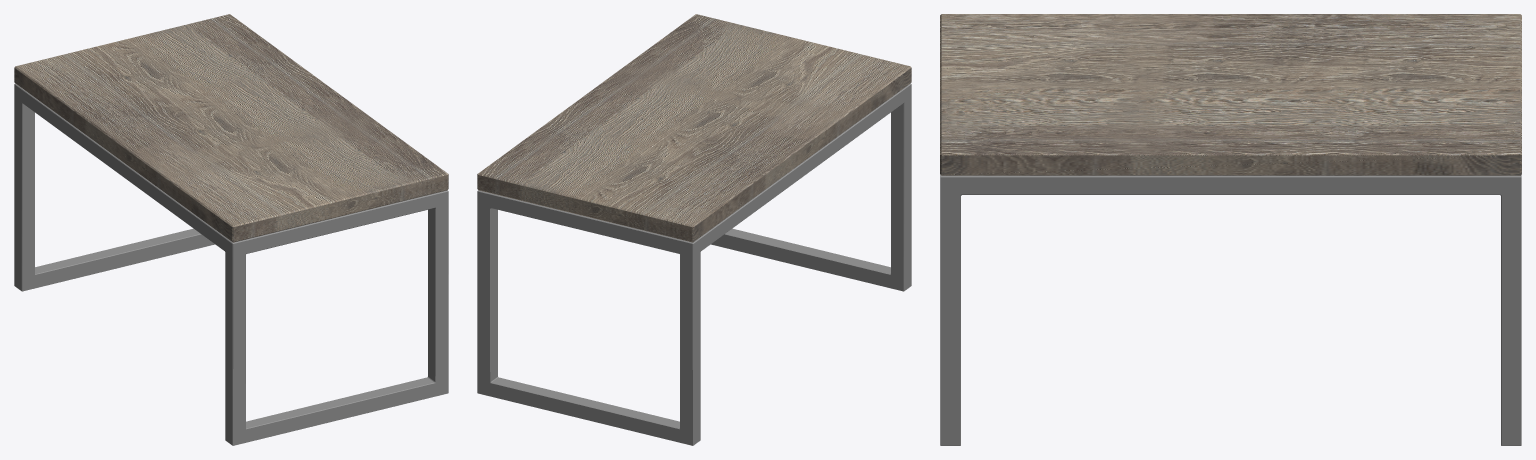
File: Table 3.FBX
3 views of the same model, side by side, from view 1: azimuth 30°, elevation 25°; view 2: azimuth 150°, elevation 25°; view 3: azimuth 270°, elevation 25° (orthographic). The views are drawn at different scales.
Visible parts, largest first — view 1: Table 3; view 2: Table 3; view 3: Table 3.
Part boxes in pixels (left/top/right/bottom): Table 3: left=14, top=14, right=448, bottom=445; Table 3: left=477, top=14, right=911, bottom=445; Table 3: left=940, top=14, right=1521, bottom=445.
Bounding box in the file's own units: 41.48 × 40.28 × 72.58.
2 materials, 1 textured.
